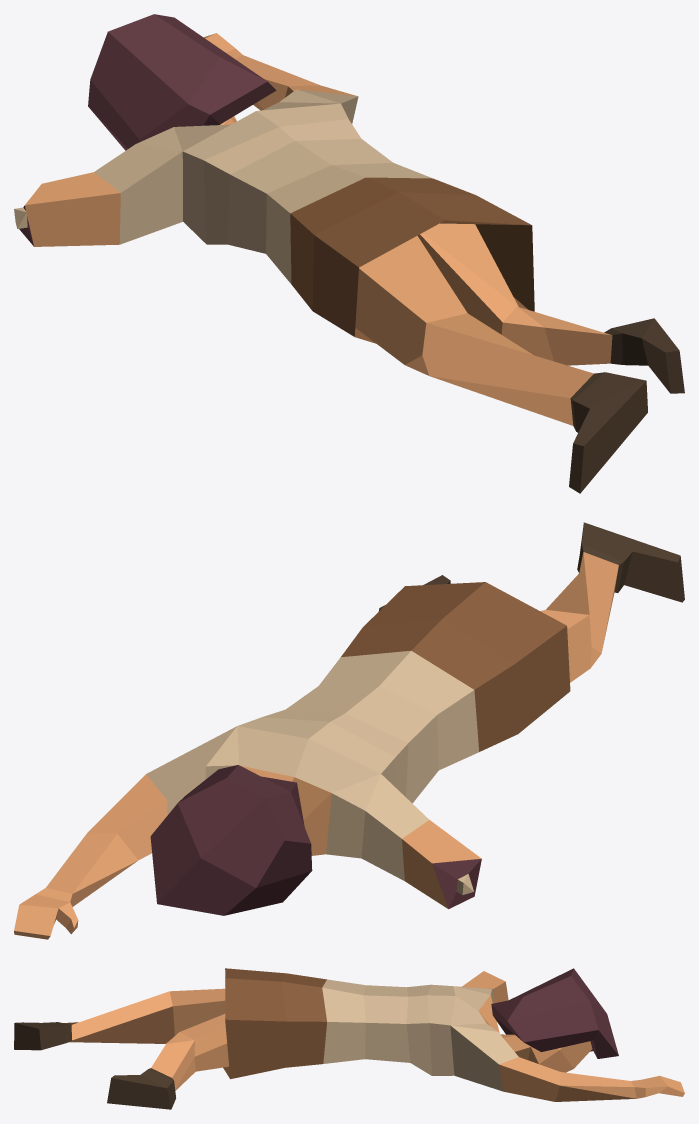
The model's file is woman-casual-dead-b.fbx.
3 views of the same model, one above another, from view 1: azimuth 30°, elevation 25°; view 2: azimuth 150°, elevation 25°; view 3: azimuth 270°, elevation 25° (orthographic). The views are drawn at different scales.
Parts seen in each view (by area): view 1: woman-casual-dead-b; view 2: woman-casual-dead-b; view 3: woman-casual-dead-b.
Boxes of the visible parts, left/top/right/bottom form: woman-casual-dead-b: left=14, top=14, right=684, bottom=493; woman-casual-dead-b: left=14, top=522, right=684, bottom=939; woman-casual-dead-b: left=14, top=968, right=684, bottom=1109.
Bounding box in the file's own units: 0.8129 × 0.321 × 2.07.
